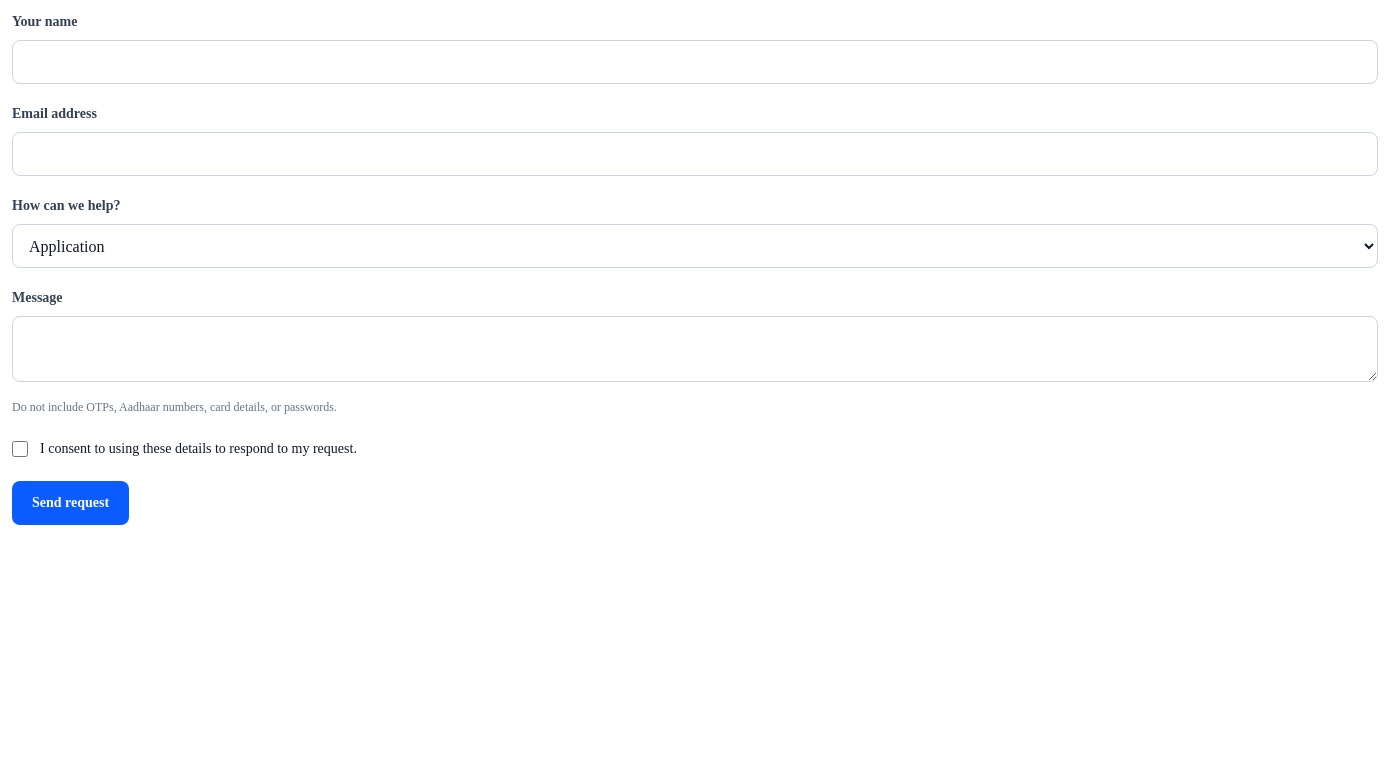
Test: contact validation flags empty fields
Click the button "Send request": (71, 503) [12,481,129,525]
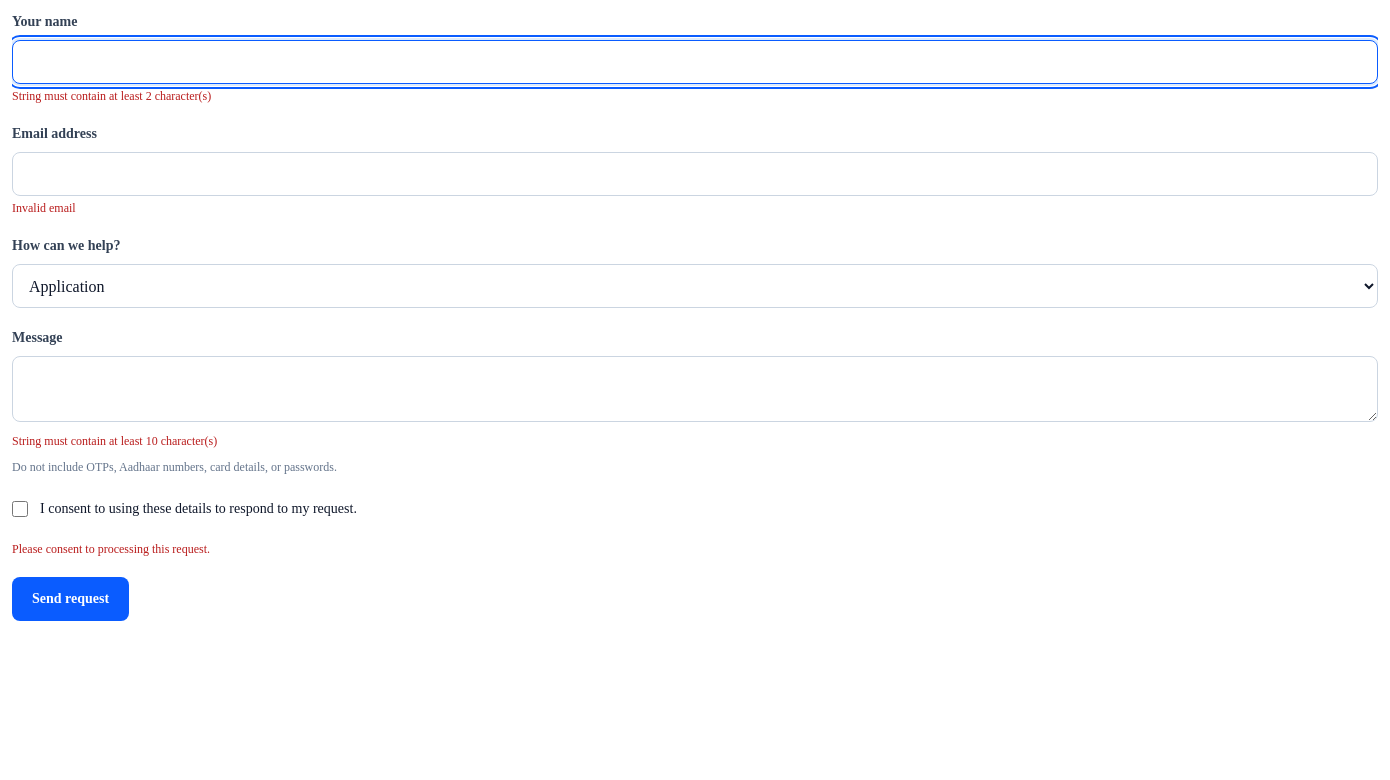
Expected: the number of messages is 4, [12,89,211,103]; [12,201,76,215]; [12,434,217,448]; [12,542,210,556]
